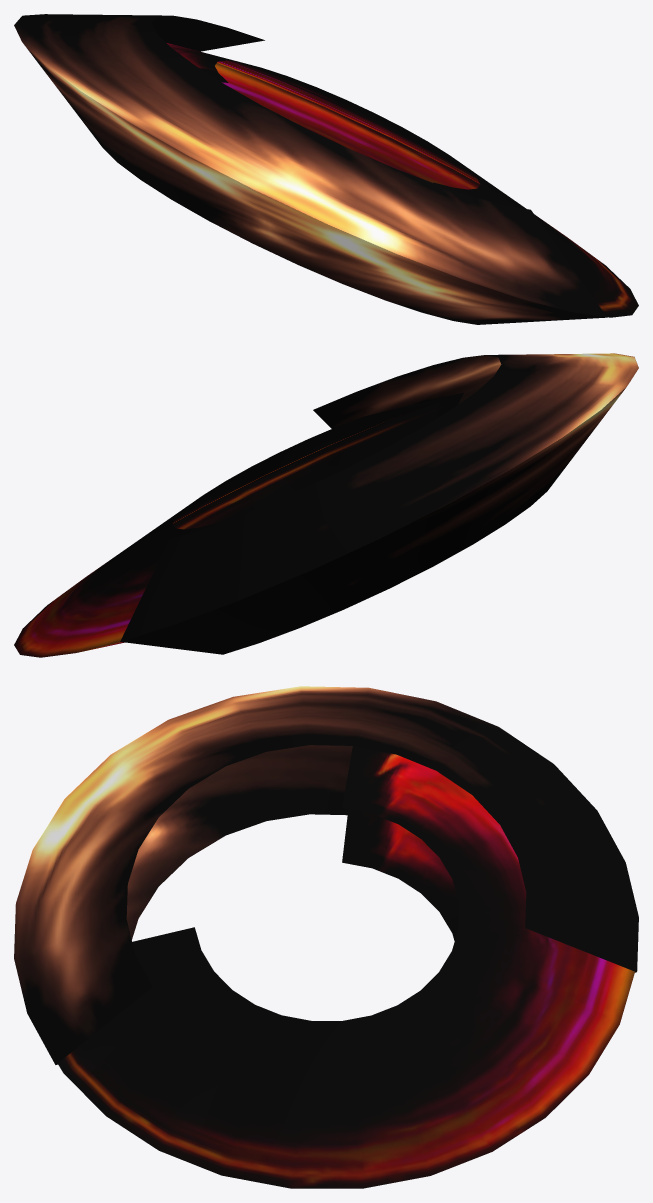
The model's file is chengqi_attack_effect_3.FBX.
The picture shows the model from 3 angles, top to bottom: view 1: azimuth 30°, elevation 25°; view 2: azimuth 150°, elevation 25°; view 3: azimuth 270°, elevation 25°; orthographic projection. The views are drawn at different scales.
Visible parts, largest first — view 1: attack_3; view 2: attack_3; view 3: attack_3.
Part boxes in pixels (box(x1,y1,x2,y2)): attack_3: box(14, 14, 638, 324); attack_3: box(14, 353, 638, 657); attack_3: box(14, 686, 638, 1188).
Size of the model in its own units: 9.27 by 5.06 by 10.58.
Materials: 2 (2 with a texture image).
